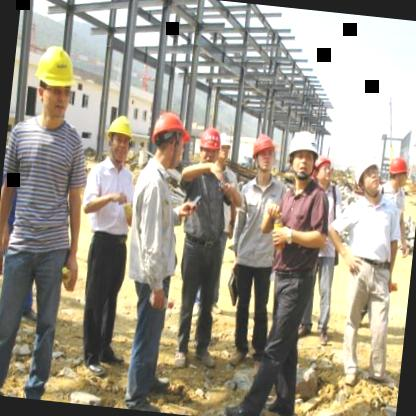helmet: (28, 36, 83, 126), (146, 104, 192, 170), (101, 110, 138, 166), (282, 128, 320, 182), (247, 130, 281, 180), (352, 155, 386, 199), (382, 150, 412, 197), (196, 124, 226, 167), (312, 152, 336, 188), (216, 134, 232, 166)
